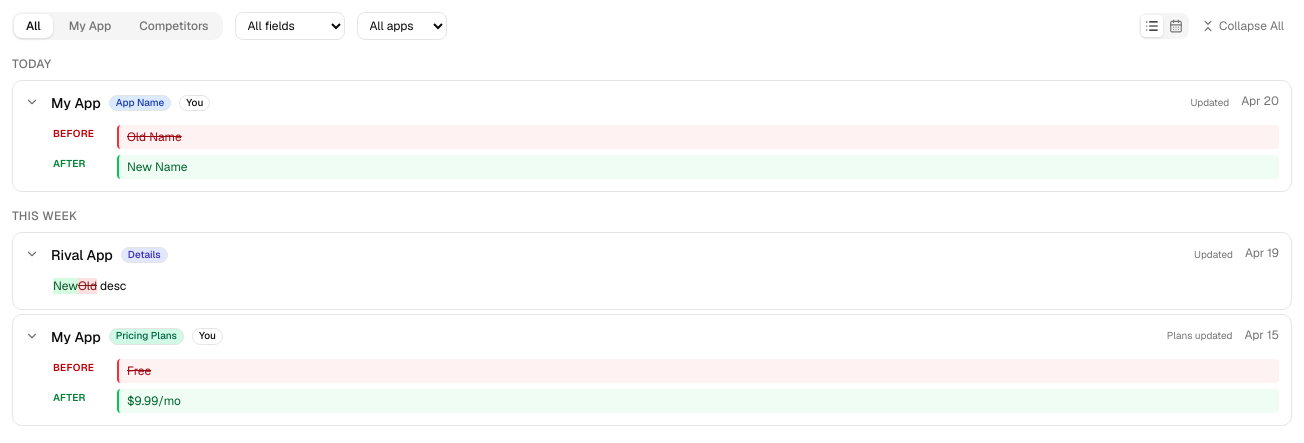
UnifiedChangeLog › filters by field
Select "App Name" in the 1st dropdown at (290, 26), box [235,12,345,40]
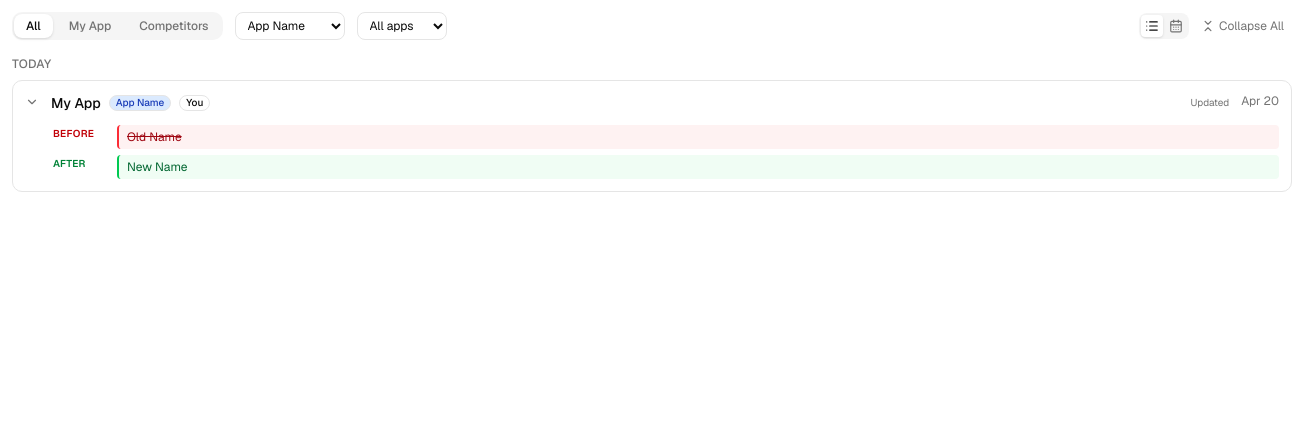
Now no links "Rival App" are shown
